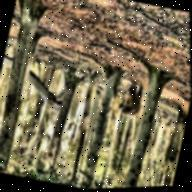boar: (115, 79, 147, 122)
